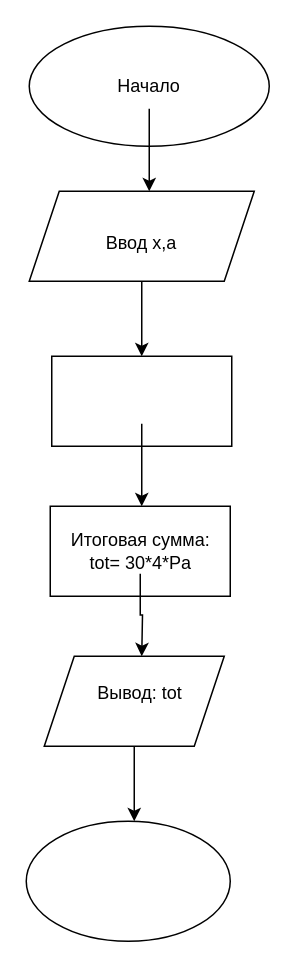
Image size: 296x968. Some labels were removed from this diagram. The shapes that lost their labels are listed below. From the top down, each one's centre as x and y in pixels, then its label:
At point 141,400: "Новая цена: Pa=2x+a".
At point 127,880: "Конец".
